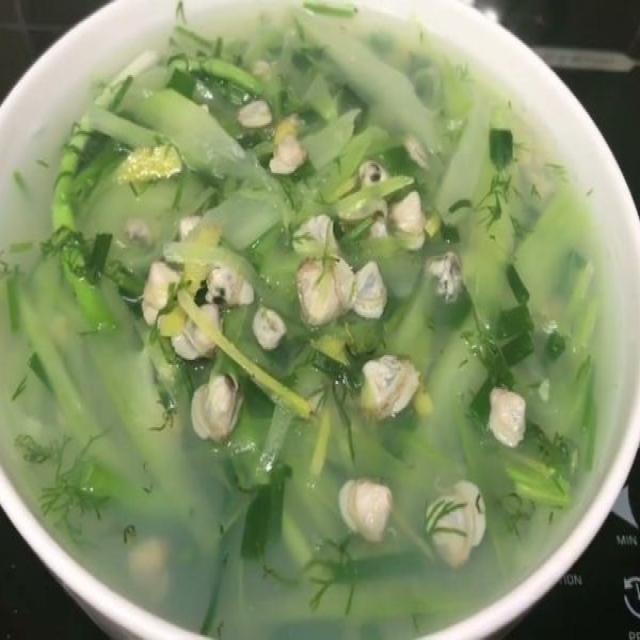canh bau: (2, 1, 621, 626)
